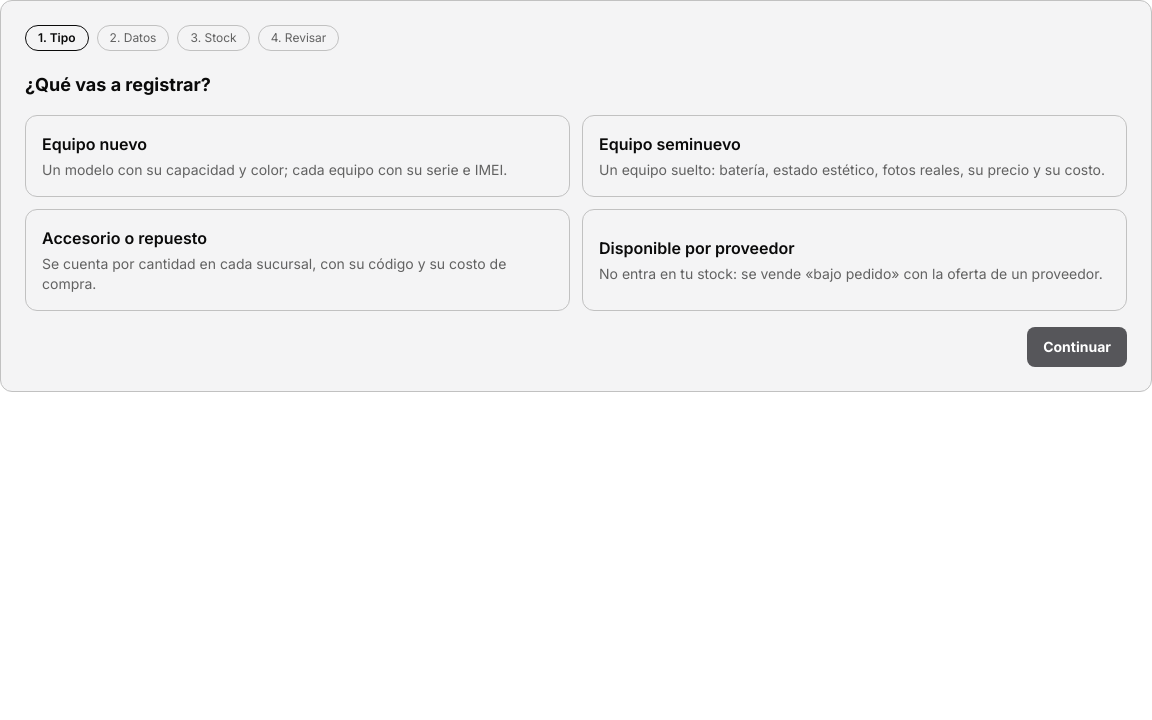
Scenario: los costos › con «Ver costos» se pide el costo y se ve el margen estimado
Click the radio button labelled "Accesorio o repuesto" at (298, 260), box [25, 209, 570, 311]
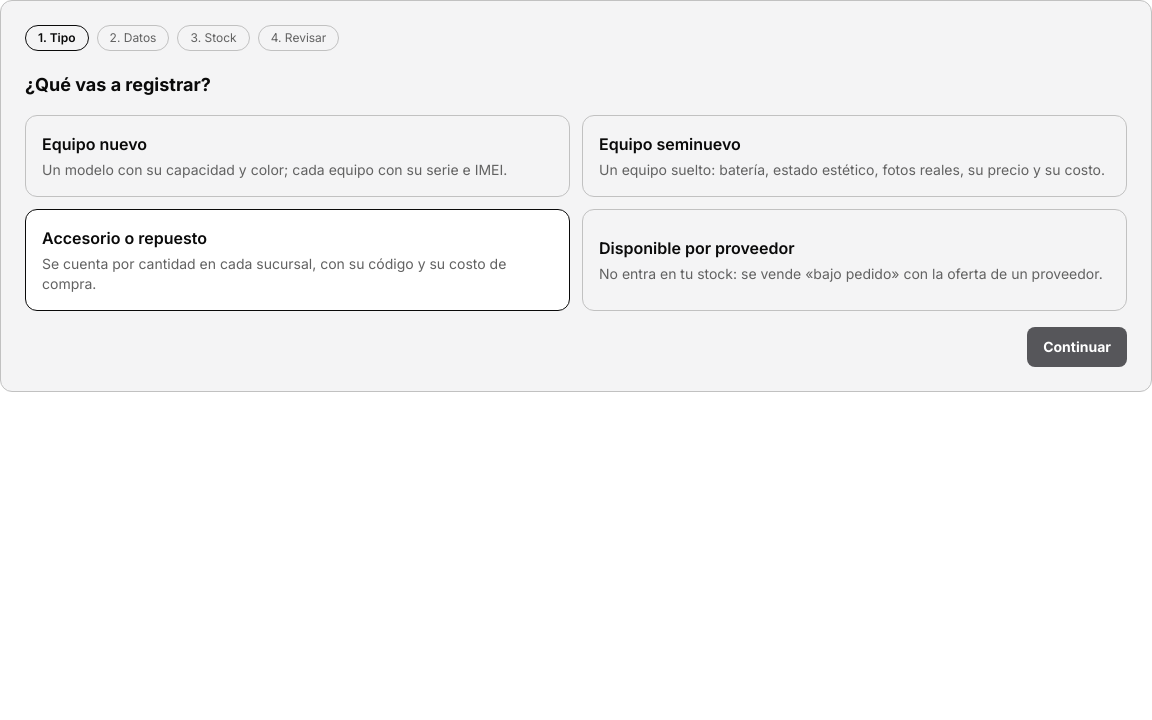
Click the button "Continuar" at (1077, 347), box [1027, 327, 1127, 367]
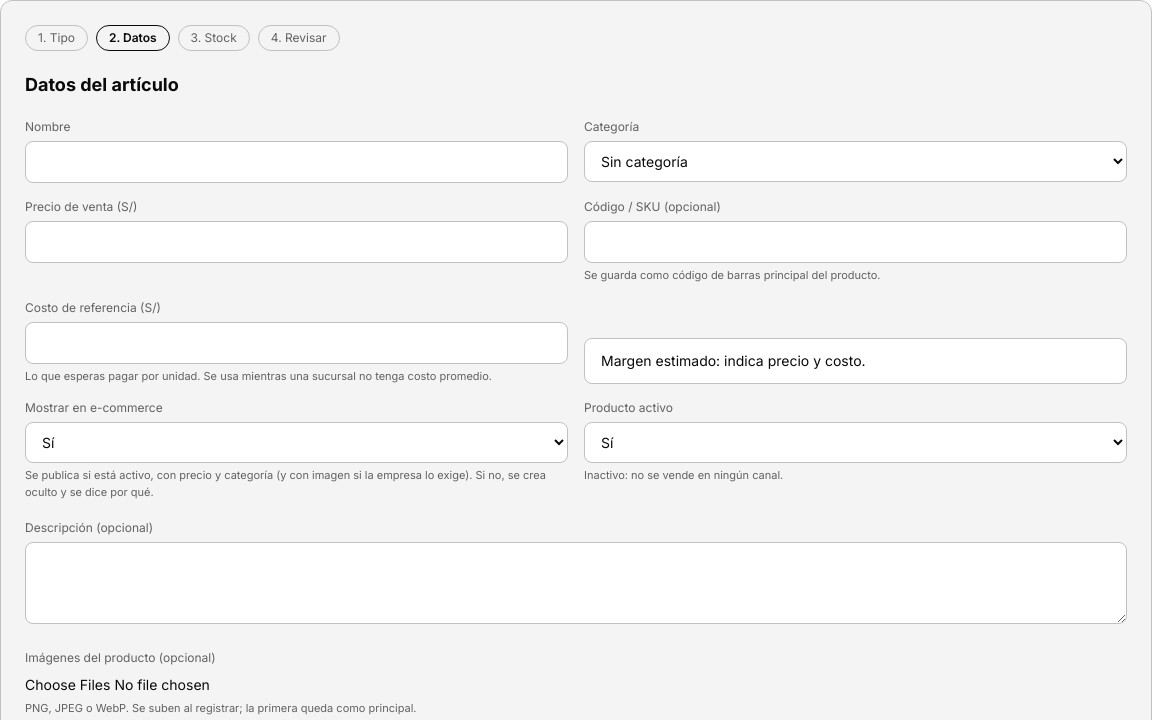
Expected: the field labelled "Nombre" is shown
Type "Funda MagSafe" into the field labelled "Nombre" at (296, 162), box [25, 141, 568, 183]
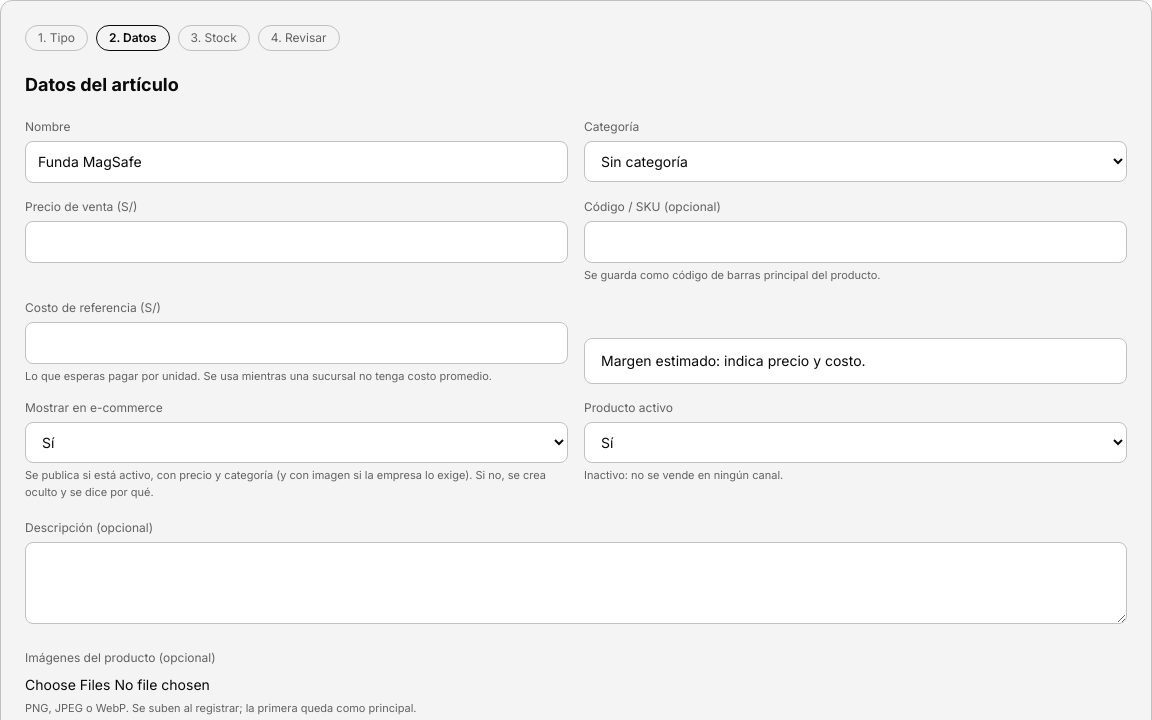
Select "Fundas" in the dropdown labelled "Categoría" at (856, 162), box [584, 141, 1127, 182]
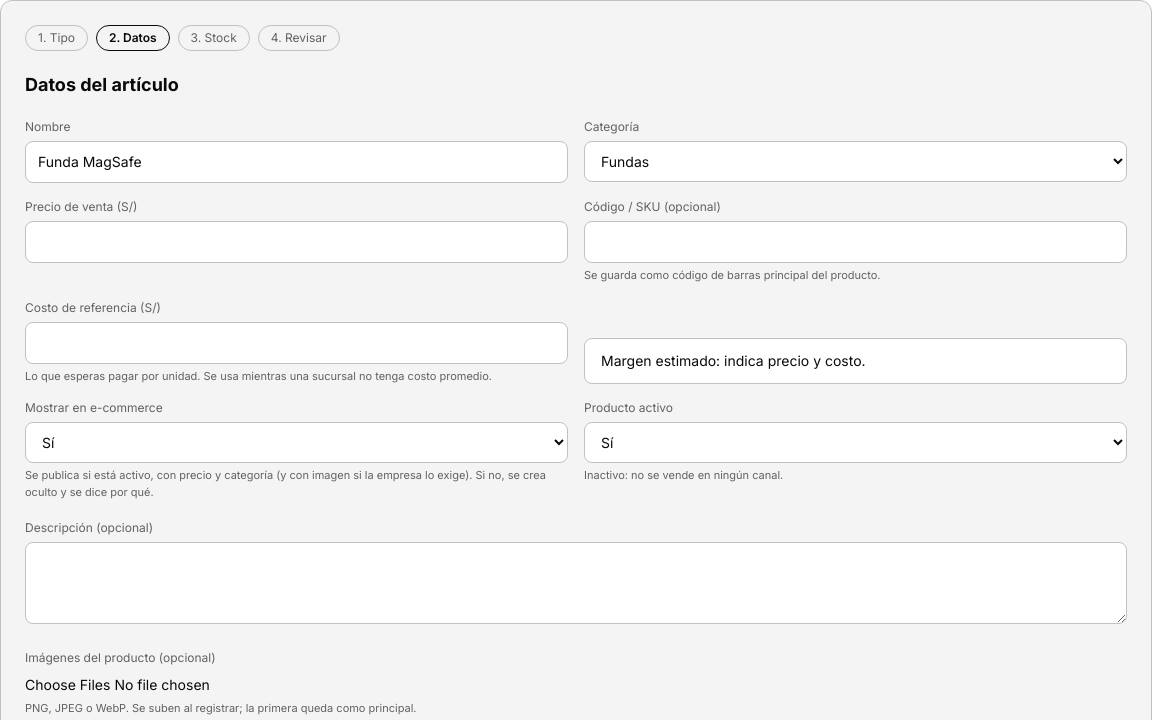
Type "90" into the field labelled "Precio de venta (S/)" at (296, 242), box [25, 221, 568, 263]
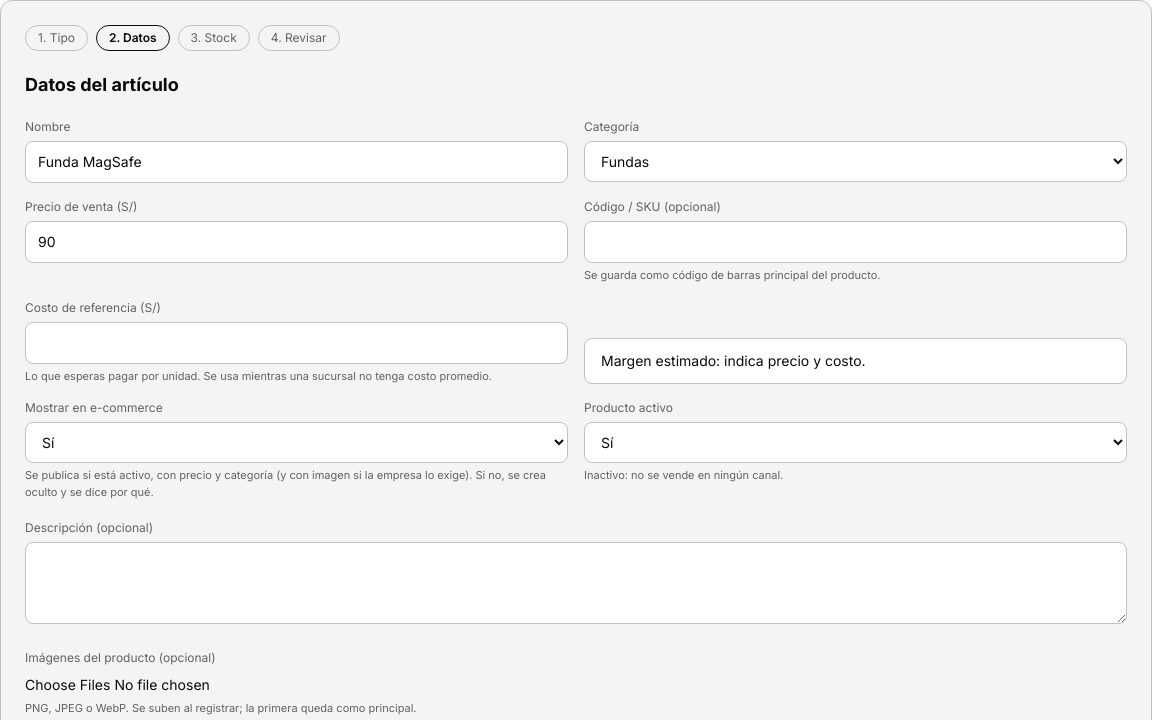
Type "60" into the field labelled "Costo de referencia (S/)" at (296, 342), box [25, 322, 568, 364]
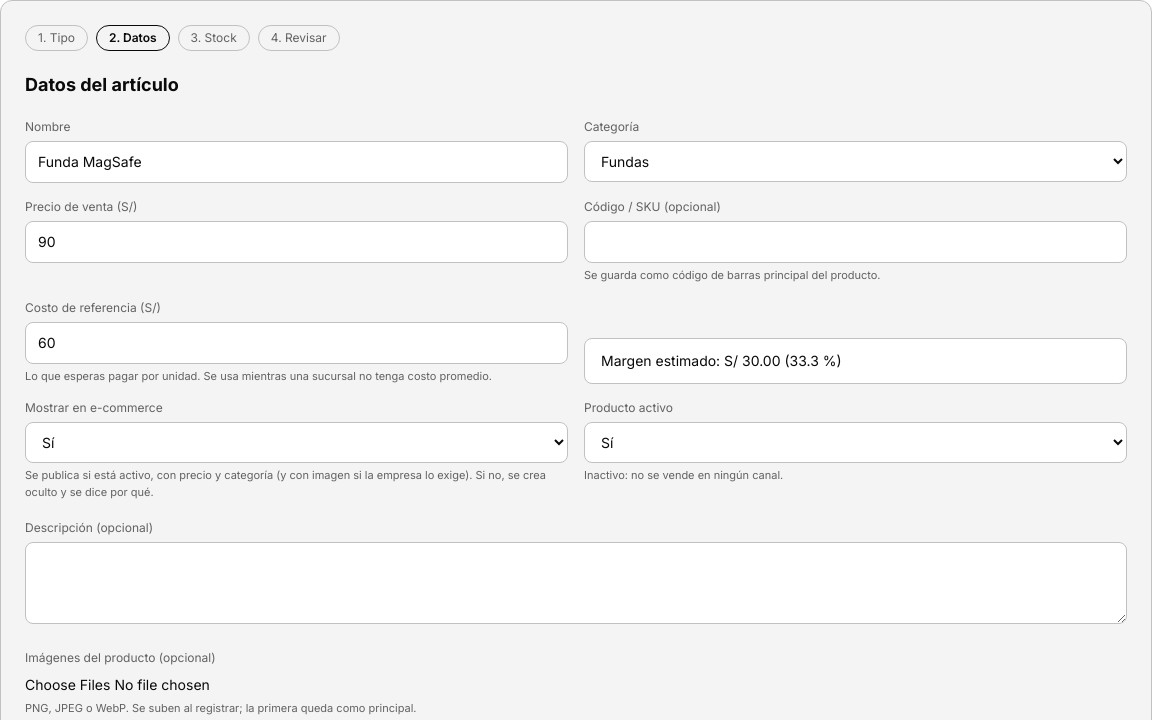
Expected: the text "Margen estimado: S/ 30.00 (33.3 %)" is shown, [601, 352, 842, 369]
